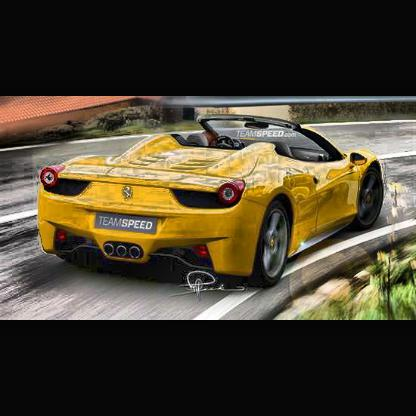Ferrari 458 Italia Convertible 2012: (31, 114, 392, 295)
